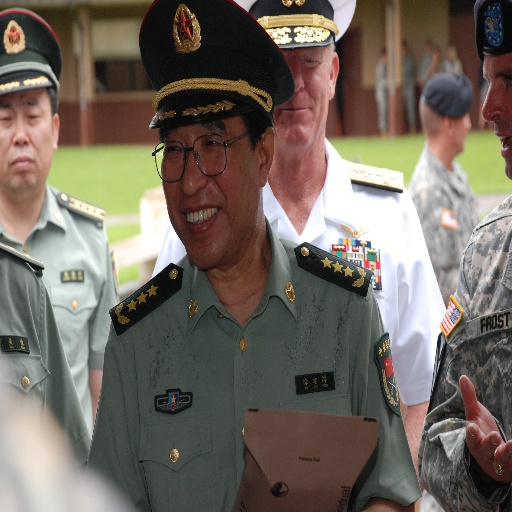hand: (447, 362, 510, 479)
